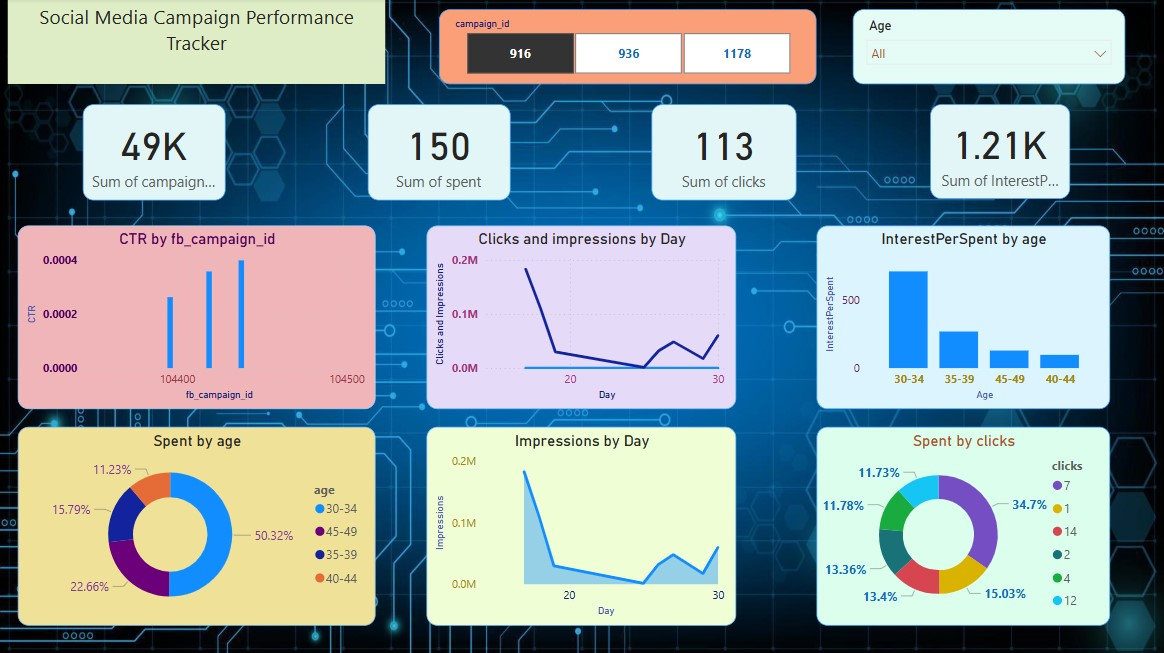

The dashboard page shown, as its layout file describes it:
{"tool":"powerbi","page":{"name":"Page 1","canvas":[1280,720],"ordinal":0},"visuals":[{"type":"textbox","box":[9.6,0,414.4,94.7],"z":0},{"type":"columnChart","title":"CTR by fb_campaign_id","fields":{"Category":["data.fb_campaign_id"],"Y":["Sum(data.CTR)"]},"box":[20.6,249.7,392.5,201.7],"z":1000},{"type":"donutChart","title":"Spent by age","fields":{"Category":["data.age"],"Y":["Sum(data.spent)"]},"box":[20.6,470.7,392.5,218.2],"z":2000},{"type":"stackedAreaChart","title":"Impressions by Day","fields":{"Y":["Sum(data.impressions)"],"Category":["data.reporting_end.Variation.Date Hierarchy.Day"]},"box":[469.3,470.7,340.3,218.2],"z":3000},{"type":"lineChart","title":"Clicks and impressions by Day","fields":{"Category":["data.reporting_start.Variation.Date Hierarchy.Day"],"Y":["Sum(data.clicks)","Sum(data.impressions)"]},"box":[469.3,249.7,340.3,201.7],"z":4000},{"type":"donutChart","title":"Spent by clicks","fields":{"Category":["data.clicks"],"Y":["Sum(data.spent)"]},"box":[897.4,470.7,322.5,218.2],"z":5000},{"type":"columnChart","title":"InterestPerSpent by age","fields":{"Category":["data.age"],"Y":["Sum(data.InterestPerRupee)"]},"box":[897.4,249.7,322.5,201.7],"z":6000},{"type":"slicer","fields":{"Values":["data.age"]},"box":[937.2,12.3,299.1,82.3],"z":7000},{"type":"slicer","fields":{"Values":["data.campaign_id"]},"box":[483,12.3,414.4,82.3],"z":8000},{"type":"card","fields":{"Values":["Sum(data.campaign_id)"]},"box":[91.9,116.6,156.4,105.7],"z":9000},{"type":"card","fields":{"Values":["Sum(data.spent)"]},"box":[404.8,116.6,156.4,105.7],"z":10000},{"type":"card","fields":{"Values":["Sum(data.clicks)"]},"box":[716.3,116.6,159.2,105.7],"z":11000},{"type":"card","fields":{"Values":["Sum(data.InterestPerSpent)"]},"box":[1022.3,116.6,153.7,104.3],"z":12000}]}

Visuals, with their boxes in screenshot pixels (x1, y1, x2, y2), scaled from the page's 1280x720 canvas onto the 1164x653 screenshot:
textbox: left=9, top=0, right=386, bottom=86
"CTR by fb_campaign_id" columnChart: left=19, top=226, right=376, bottom=409
"Spent by age" donutChart: left=19, top=427, right=376, bottom=625
"Impressions by Day" stackedAreaChart: left=427, top=427, right=736, bottom=625
"Clicks and impressions by Day" lineChart: left=427, top=226, right=736, bottom=409
"Spent by clicks" donutChart: left=816, top=427, right=1109, bottom=625
"InterestPerSpent by age" columnChart: left=816, top=226, right=1109, bottom=409
slicer - data.age: left=852, top=11, right=1124, bottom=86
slicer - data.campaign_id: left=439, top=11, right=816, bottom=86
card - Sum(data.campaign_id): left=84, top=106, right=226, bottom=202
card - Sum(data.spent): left=368, top=106, right=510, bottom=202
card - Sum(data.clicks): left=651, top=106, right=796, bottom=202
card - Sum(data.InterestPerSpent): left=930, top=106, right=1069, bottom=200
